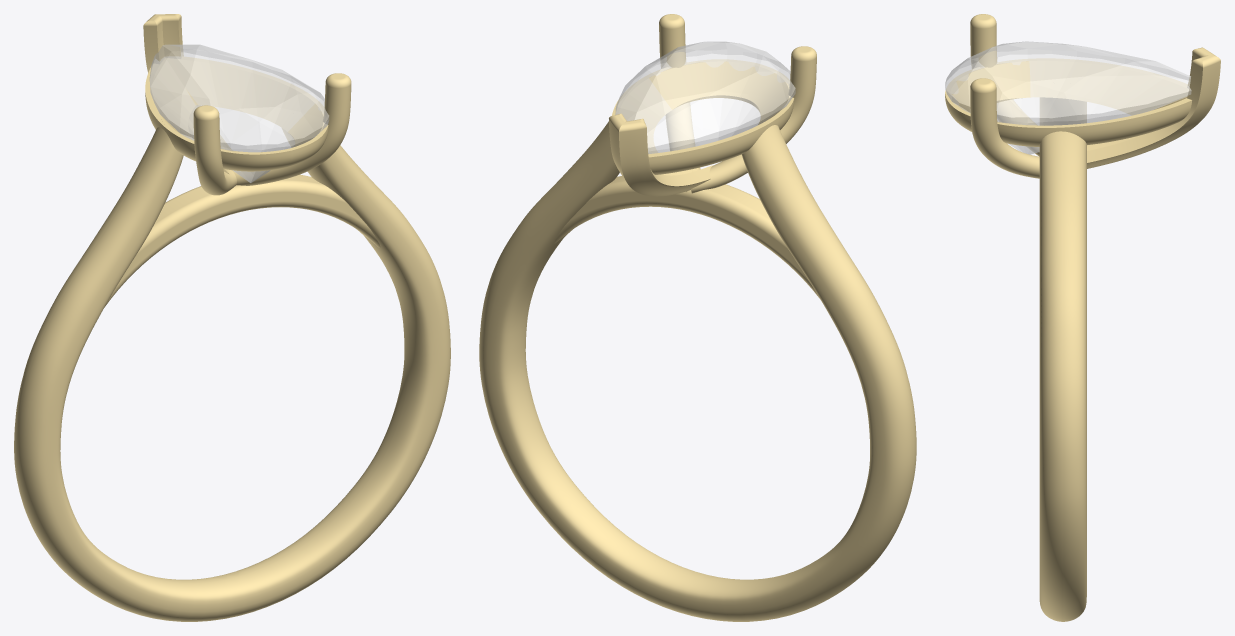
3 renders of one model, left to right at view 1: azimuth 30°, elevation 25°; view 2: azimuth 150°, elevation 25°; view 3: azimuth 270°, elevation 25°, orthographic.
Visible parts, largest first — view 1: NNObj_7, NNObj_6, NNObj_0, NNObj_5, NNObj_3, NNObj_2, NNObj_1, NNObj_4; view 2: NNObj_7, NNObj_6, NNObj_0, NNObj_5, NNObj_3, NNObj_4, NNObj_1, NNObj_2; view 3: NNObj_6, NNObj_0, NNObj_5, NNObj_4, NNObj_2, NNObj_1, NNObj_7.
Boxes of the visible parts, bbox=[...] form: NNObj_7: bbox=[14, 117, 244, 621]; NNObj_6: bbox=[225, 87, 450, 615]; NNObj_0: bbox=[149, 44, 329, 182]; NNObj_5: bbox=[145, 56, 328, 171]; NNObj_3: bbox=[104, 174, 380, 307]; NNObj_2: bbox=[232, 73, 351, 185]; NNObj_1: bbox=[193, 105, 236, 195]; NNObj_4: bbox=[143, 14, 231, 173]; NNObj_7: bbox=[686, 116, 916, 621]; NNObj_6: bbox=[479, 83, 705, 615]; NNObj_0: bbox=[615, 41, 795, 153]; NNObj_5: bbox=[612, 59, 794, 174]; NNObj_3: bbox=[554, 176, 819, 298]; NNObj_4: bbox=[609, 113, 712, 196]; NNObj_1: bbox=[691, 46, 816, 193]; NNObj_2: bbox=[659, 14, 700, 191]; NNObj_6: bbox=[1039, 124, 1086, 621]; NNObj_0: bbox=[945, 41, 1191, 154]; NNObj_5: bbox=[945, 58, 1192, 146]; NNObj_4: bbox=[1087, 47, 1220, 168]; NNObj_2: bbox=[970, 78, 1039, 178]; NNObj_1: bbox=[970, 14, 1039, 156]; NNObj_7: bbox=[1040, 59, 1086, 125].
Size of the model in its own units: 0.0211 by 0.0258 by 0.0117.
